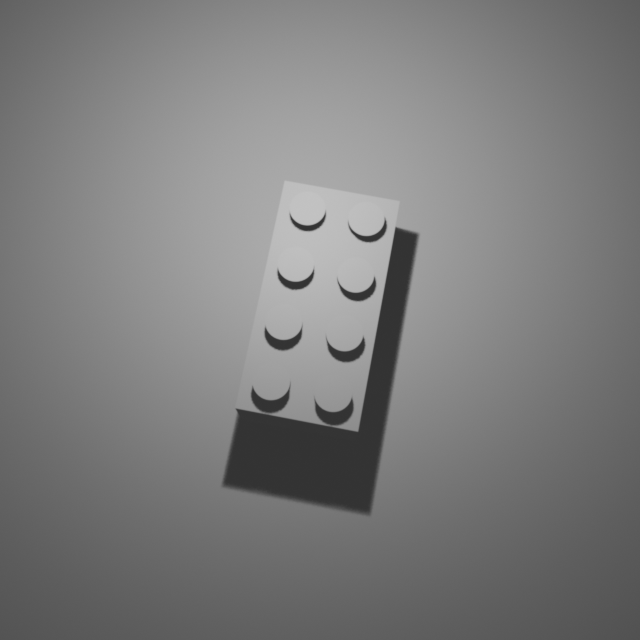lego_2x4: (234, 176, 401, 441)
